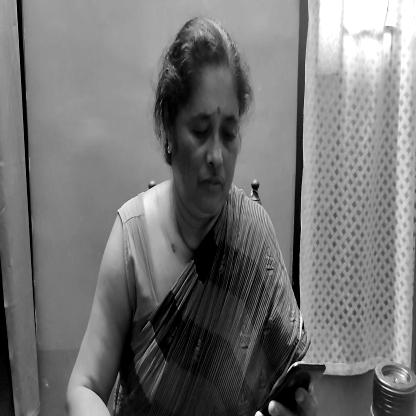Distracted: (164, 24, 245, 223)
